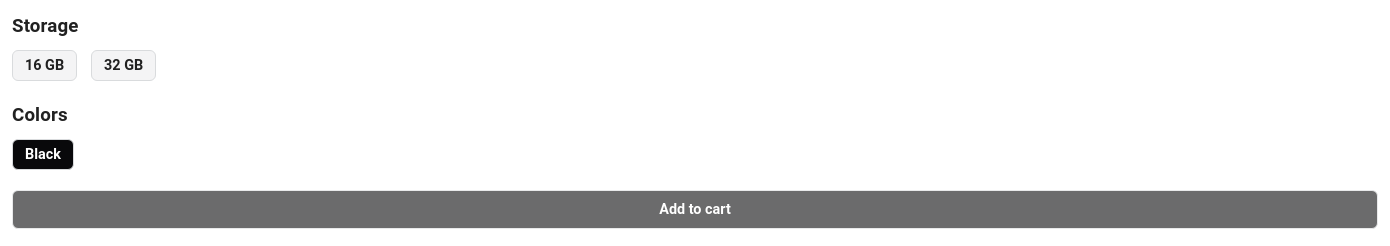
Given an Actions component › When rendered with the options of the Acer Iconia Talk S › And the user clicks on the 16 GB sotrage option › Then the Add to cart button should not be disabled
The width and height of the screenshot is (1390, 246).
Click the button "16 GB": (45, 66) [12,50,77,81]
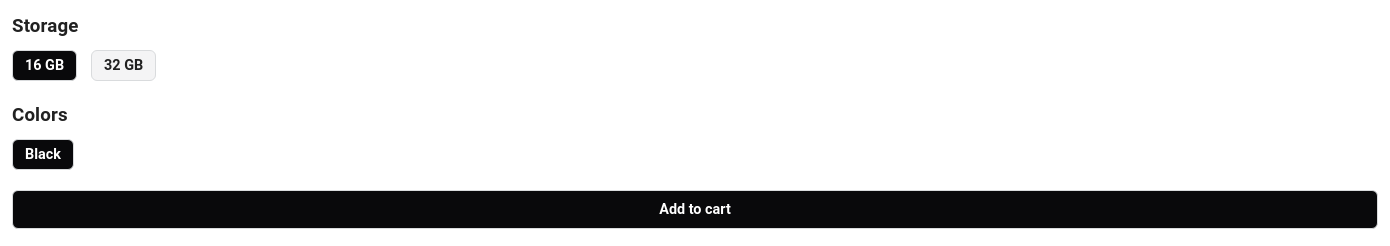
Check: the button "Add to cart" is enabled, box [12,190,1378,229]
